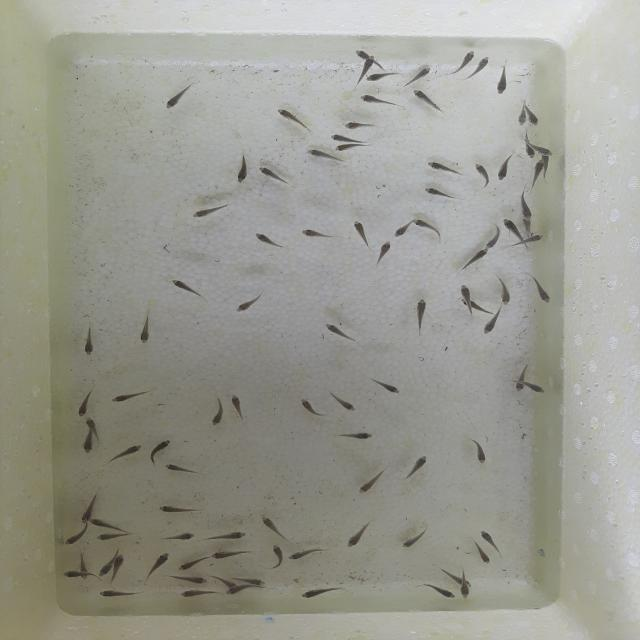fingerling: (158, 79, 209, 113), (408, 88, 444, 116), (165, 276, 209, 298), (290, 394, 326, 418), (320, 322, 358, 344), (329, 390, 364, 413), (354, 471, 388, 494), (422, 188, 467, 205), (410, 218, 448, 238), (107, 441, 145, 461), (414, 581, 454, 600), (144, 552, 172, 579), (76, 386, 101, 416), (259, 515, 289, 540), (344, 520, 369, 549), (255, 164, 293, 183), (357, 90, 393, 110), (277, 106, 307, 130), (398, 526, 428, 550), (350, 218, 375, 246), (368, 375, 403, 395), (409, 297, 431, 328), (460, 299, 495, 318), (112, 387, 151, 404), (404, 454, 430, 479), (468, 55, 492, 82), (252, 230, 284, 250), (496, 274, 516, 306), (186, 204, 228, 219), (285, 547, 322, 564), (151, 434, 177, 458), (471, 164, 493, 192), (531, 276, 553, 304), (204, 528, 248, 542), (490, 69, 511, 98), (422, 162, 462, 177), (468, 436, 488, 465), (230, 297, 264, 314), (299, 586, 347, 598), (515, 191, 535, 218), (330, 430, 378, 441), (466, 246, 492, 266), (137, 316, 154, 346), (88, 518, 124, 532), (81, 327, 97, 358), (112, 551, 128, 582), (81, 494, 98, 523), (230, 394, 245, 426), (235, 155, 252, 183), (366, 70, 402, 83), (209, 397, 224, 428), (519, 232, 548, 248), (477, 528, 499, 549), (501, 218, 524, 238), (514, 361, 527, 396), (155, 505, 205, 514), (97, 552, 114, 577), (455, 49, 474, 71), (163, 464, 204, 474), (475, 542, 492, 566), (235, 574, 269, 586), (98, 589, 138, 599), (65, 528, 86, 547), (161, 530, 197, 541), (268, 543, 285, 566), (77, 553, 92, 579), (174, 557, 200, 572), (338, 121, 381, 130), (411, 67, 435, 83), (522, 134, 538, 158), (300, 148, 332, 160), (300, 228, 332, 240), (485, 228, 504, 248), (212, 550, 250, 560), (530, 158, 544, 185), (437, 568, 462, 583), (178, 588, 215, 598), (377, 239, 392, 263), (96, 532, 132, 542), (360, 54, 374, 78), (82, 434, 97, 456), (176, 575, 208, 585), (208, 574, 234, 586), (527, 107, 543, 126), (484, 317, 499, 337), (226, 585, 253, 596), (497, 158, 508, 184), (333, 144, 365, 152), (538, 142, 556, 156), (330, 134, 360, 142), (528, 382, 547, 394), (84, 418, 100, 432), (460, 285, 473, 301), (392, 226, 410, 237), (521, 218, 536, 231), (456, 585, 471, 598), (518, 106, 526, 127), (543, 156, 551, 175), (62, 570, 82, 577), (352, 48, 364, 58)
